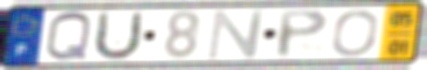8: (162, 9, 204, 62)
N: (205, 8, 269, 61)
O: (329, 9, 382, 58)
P: (275, 8, 331, 60)
Q: (43, 10, 94, 64)
U: (90, 10, 146, 63)
